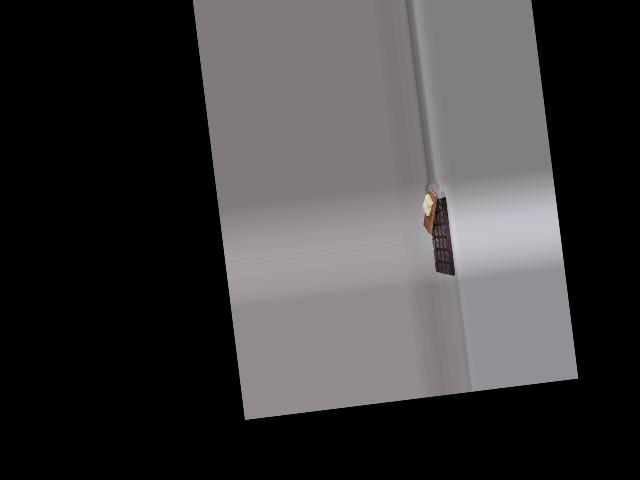chocolate: (423, 191, 458, 278)
